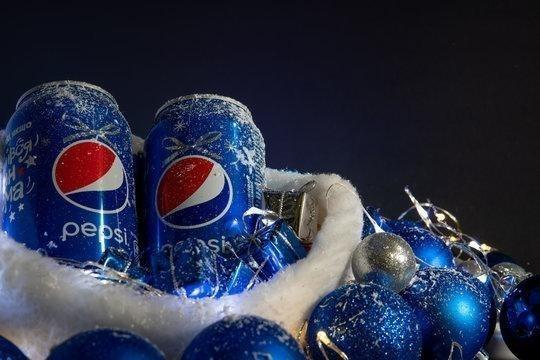tin can: (139, 90, 271, 301), (1, 78, 144, 266)
